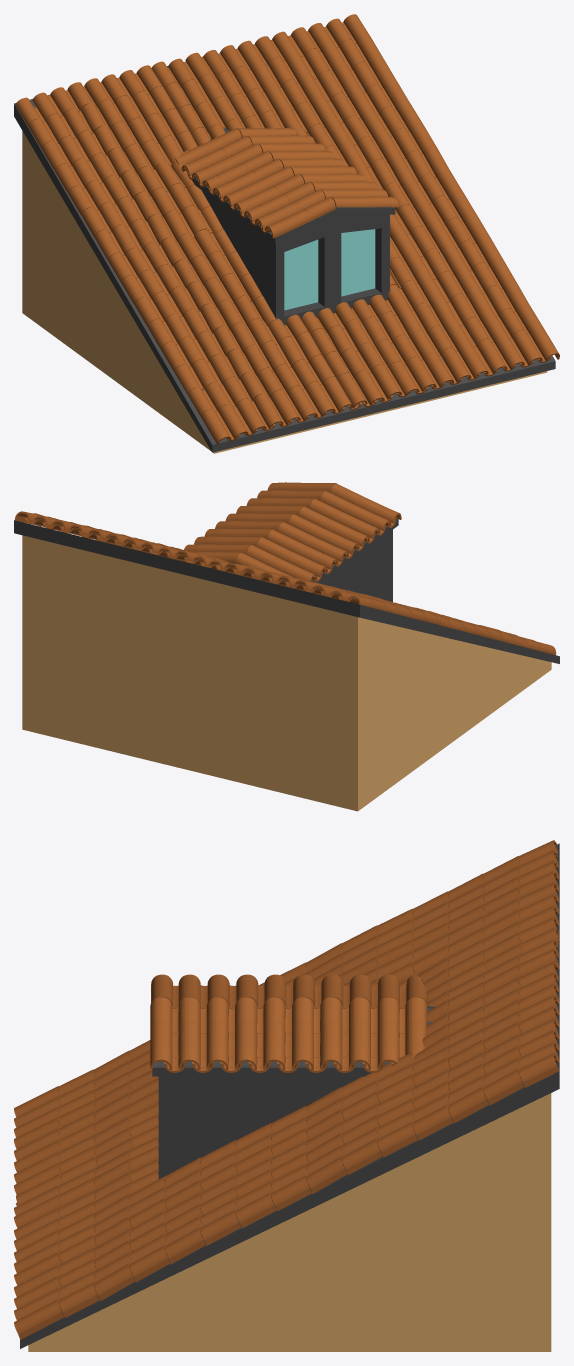
Rendered from buildingTop1.fbx.
3 views of the same model, one above another, from view 1: azimuth 30°, elevation 25°; view 2: azimuth 150°, elevation 25°; view 3: azimuth 270°, elevation 25° (orthographic). The views are drawn at different scales.
Visible parts, largest first — view 1: Circle.024; view 2: Circle.024; view 3: Circle.024.
Part boxes in pixels (x1=…): Circle.024: x1=14, y1=14, x2=559, y2=453; Circle.024: x1=14, y1=482, x2=559, y2=811; Circle.024: x1=14, y1=840, x2=559, y2=1351.
Size of the model in its own units: 104 by 62.38 by 104.
